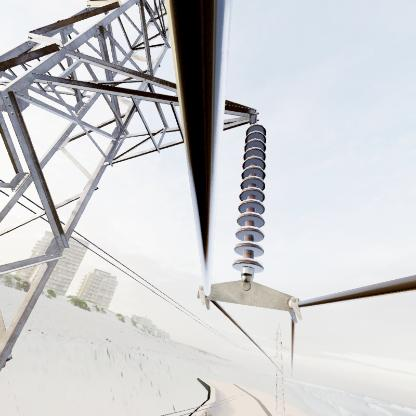insulator: (230, 121, 271, 281)
